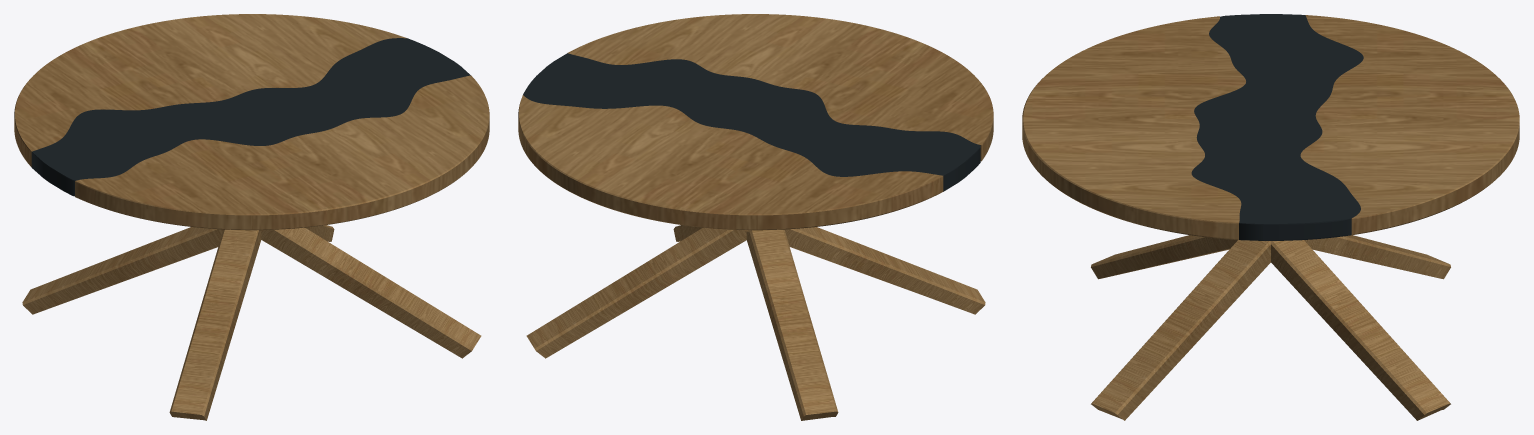
The model's file is round-oak-epoxy-black.glb.
3 views of the same model, side by side, from view 1: azimuth 30°, elevation 25°; view 2: azimuth 150°, elevation 25°; view 3: azimuth 270°, elevation 25° (orthographic). The views are drawn at different scales.
Parts seen in each view (by area): view 1: Wood_Round_EpoxyFar, Wood_Round_EpoxyNear, Resin_Round, Base_Round; view 2: Wood_Round_EpoxyNear, Wood_Round_EpoxyFar, Resin_Round, Base_Round; view 3: Wood_Round_EpoxyFar, Wood_Round_EpoxyNear, Resin_Round, Base_Round.
Boxes of the visible parts, <box> form: Wood_Round_EpoxyFar: <box>75,75,489,230</box>; Wood_Round_EpoxyNear: <box>14,14,406,166</box>; Resin_Round: <box>31,38,470,196</box>; Base_Round: <box>22,225,481,420</box>; Wood_Round_EpoxyNear: <box>518,95,943,230</box>; Wood_Round_EpoxyFar: <box>567,14,993,161</box>; Resin_Round: <box>523,53,980,191</box>; Base_Round: <box>526,225,985,420</box>; Wood_Round_EpoxyFar: <box>1022,16,1245,239</box>; Wood_Round_EpoxyNear: <box>1300,15,1519,235</box>; Resin_Round: <box>1191,14,1363,240</box>; Base_Round: <box>1091,235,1450,420</box>.
Bounding box in the file's own units: 1.52 × 0.762 × 1.52.
Materials: 2 (1 with a texture image).
